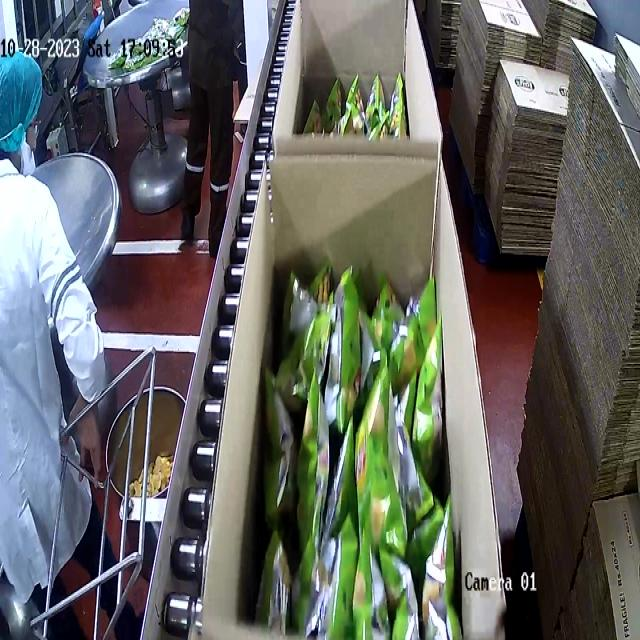YOGURT_HERB: (254, 260, 458, 637), (308, 66, 409, 142)
